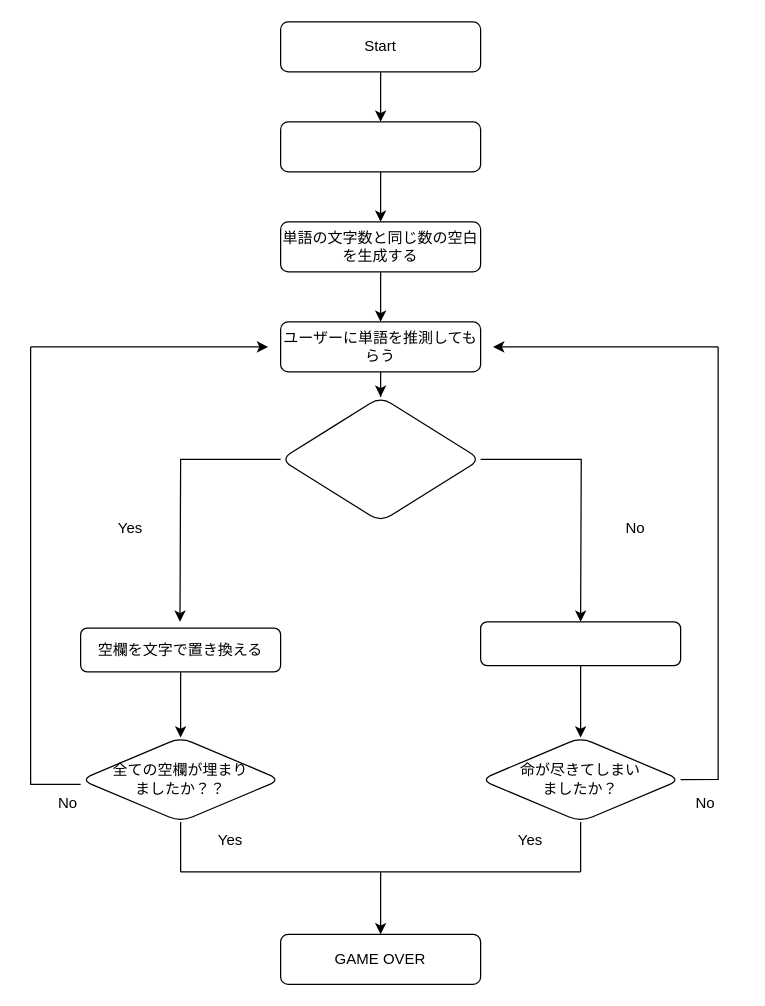
Image size: 765x1006. Some labels were removed from this diagram. Here are the shapes that lost their labels. From the top down, the box of each, then its label:
(279, 121, 481, 172): ランダムな単語を生成する
(279, 396, 481, 522): 推測し単語に該当する 文字はありますか？
(479, 621, 681, 666): 命を失う
